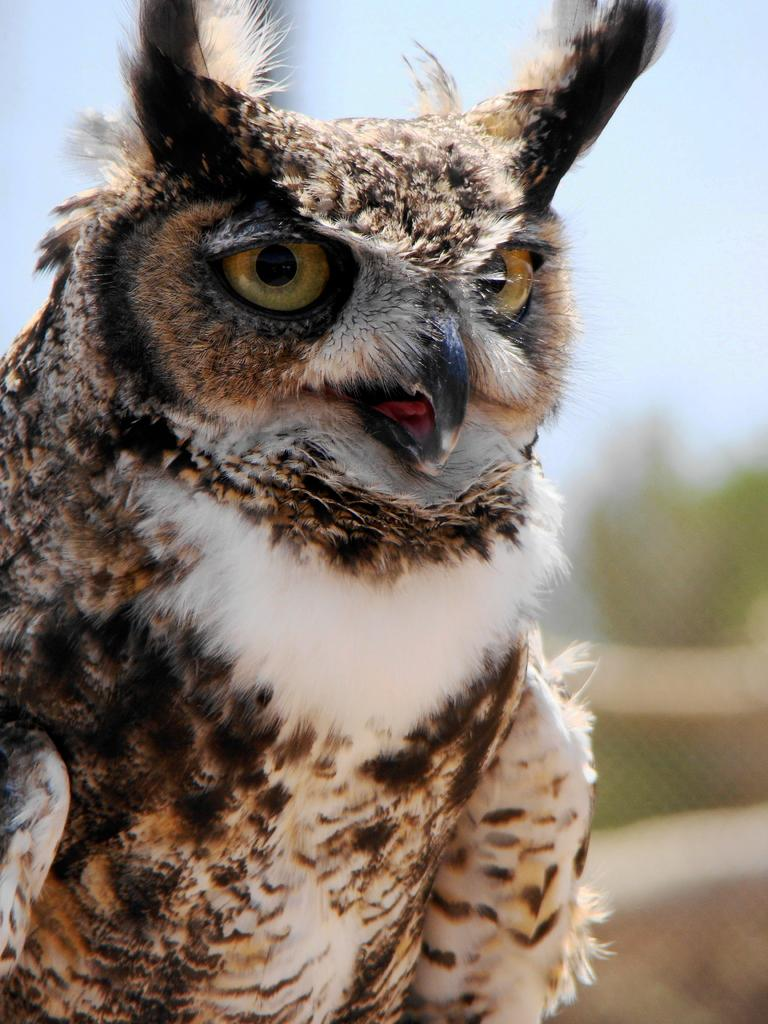Owl: (0, 0, 675, 1023)
